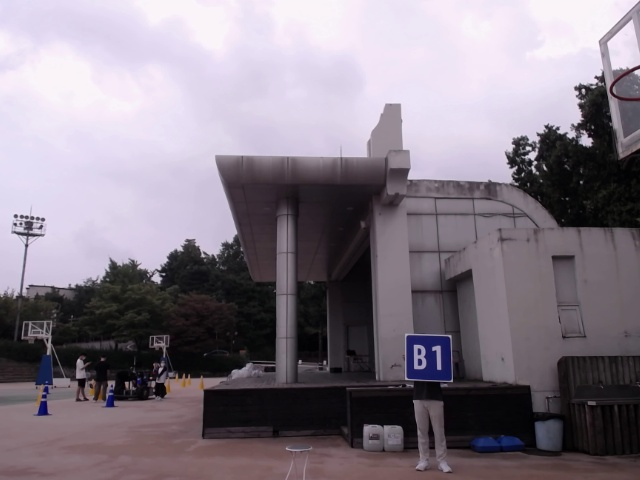delivery_b1: (405, 334, 453, 382)
